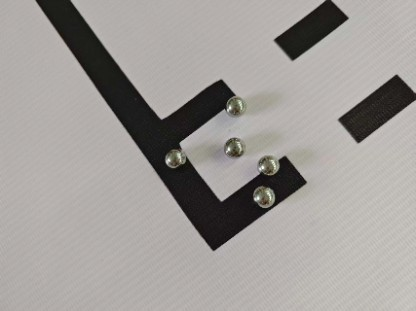ironball: (251, 185, 274, 208), (258, 154, 279, 174), (223, 137, 243, 156), (164, 149, 185, 167), (225, 96, 243, 115)
